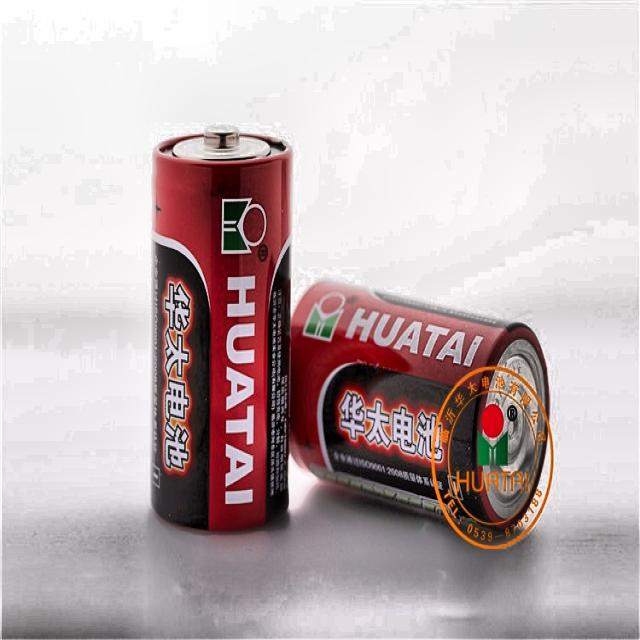Non-Valuable Waste - Batteries: (290, 282, 552, 548), (151, 130, 291, 530)
